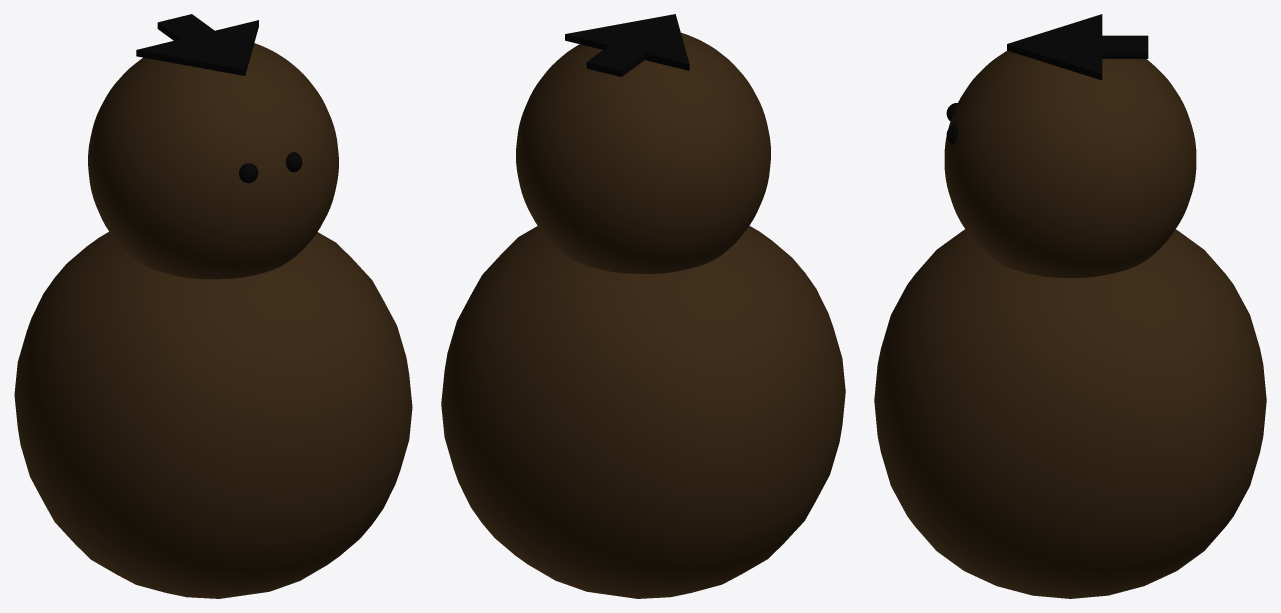
Rendered from 1brown.obj.
The picture shows the model from 3 angles, left to right: view 1: azimuth 30°, elevation 25°; view 2: azimuth 150°, elevation 25°; view 3: azimuth 270°, elevation 25°; orthographic projection.
Parts seen in each view (by area): view 1: Cube.002_Cube.028; view 2: Cube.002_Cube.028; view 3: Cube.002_Cube.028.
Part boxes in pixels (bbox=[...]): Cube.002_Cube.028: bbox=[14, 14, 412, 598]; Cube.002_Cube.028: bbox=[441, 14, 845, 598]; Cube.002_Cube.028: bbox=[874, 14, 1266, 598].
Size of the model in its own units: 0.3205 by 0.4814 by 0.3205.
